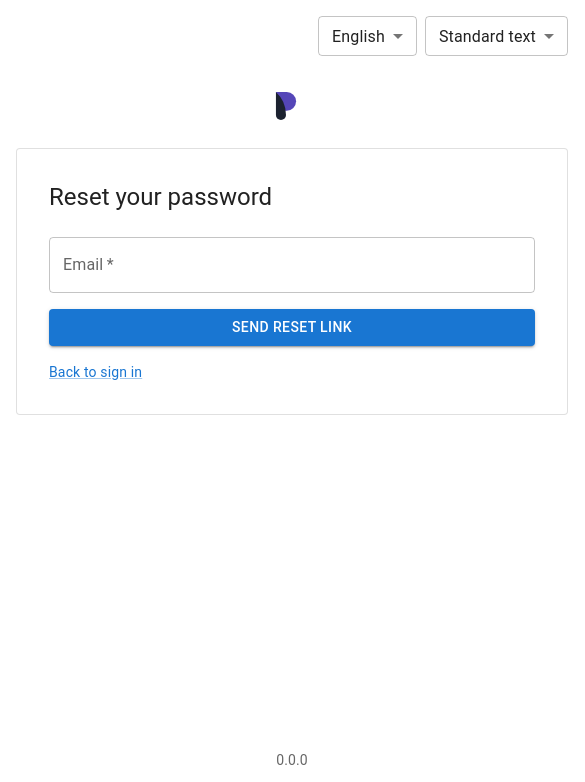
Test: ForgotPasswordPage, failing › says a new version is being installed, then, once it is out, to reload
The image size is (585, 782).
Type "mei@example.com" into the field labelled "Email" at coordinates (292, 265), box [49,237,535,293]
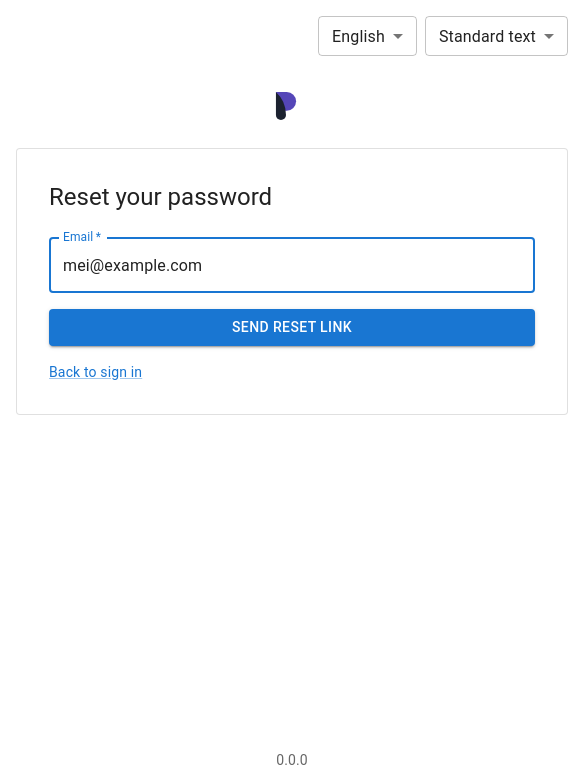
Click the button "Send reset link" at coordinates (292, 327), box [49,309,535,346]
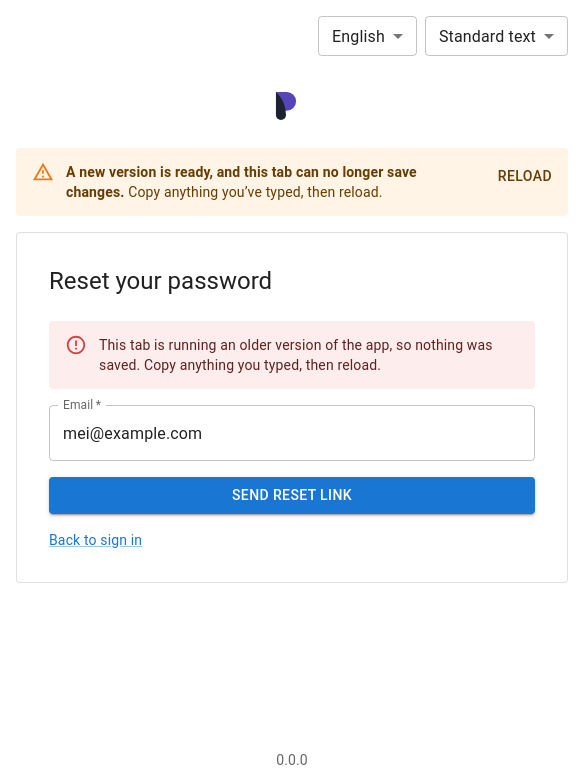
Expected: the text "A new version is being installed. Try again in a minute; nothing was saved." is shown, [99,327,519,383]
Expected: the text "This tab is running an older version of the app, so nothing was saved. Copy anything you typed, then reload." is shown, [99,337,493,373]
